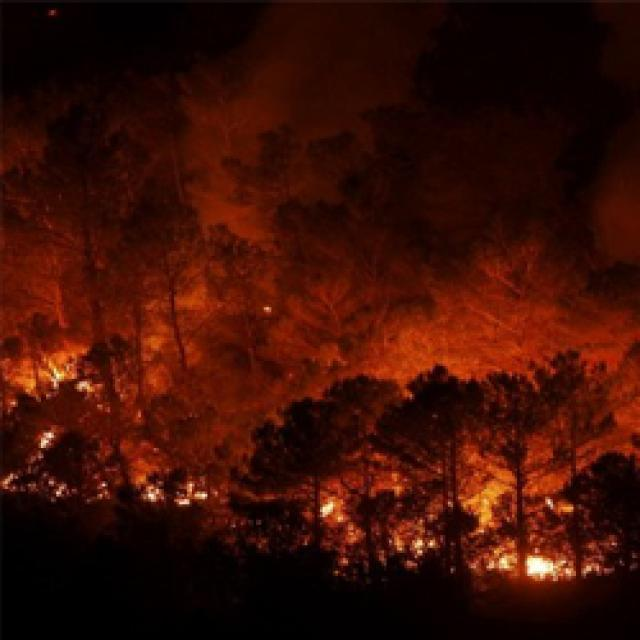Fire: (443, 456, 612, 580), (283, 440, 420, 582), (0, 448, 230, 525), (352, 477, 486, 586), (0, 322, 106, 419)
Smoke: (0, 47, 332, 324), (239, 187, 640, 410)
